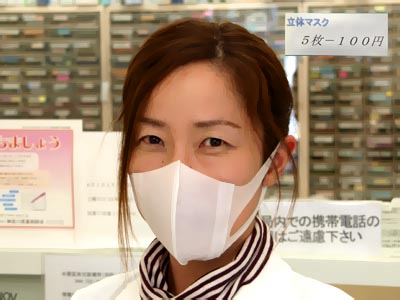mask: (136, 171, 237, 261)
